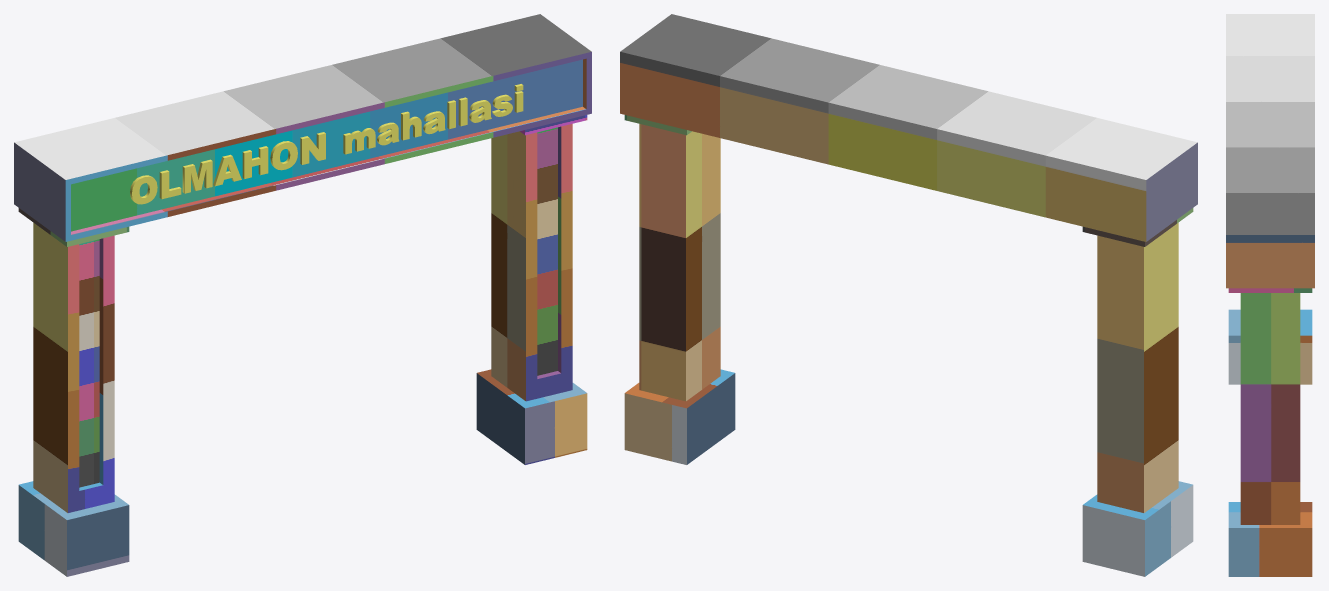
File: street_construction_arc_mahalla.FBX
The picture shows the model from 3 angles, left to right: view 1: azimuth 30°, elevation 25°; view 2: azimuth 150°, elevation 25°; view 3: azimuth 270°, elevation 25°; orthographic projection. The views are drawn at different scales.
Parts seen in each view (by area): view 1: street_construction_arc_mahalla, street_construction_arc_mahalla_text; view 2: street_construction_arc_mahalla; view 3: street_construction_arc_mahalla.
Boxes of the visible parts, x1,y1,x2,y2 form: street_construction_arc_mahalla: (14, 14, 591, 576); street_construction_arc_mahalla_text: (130, 84, 523, 204); street_construction_arc_mahalla: (620, 14, 1197, 576); street_construction_arc_mahalla: (1226, 14, 1314, 576).
Bounding box in the file's own units: 679 × 115 × 492.
